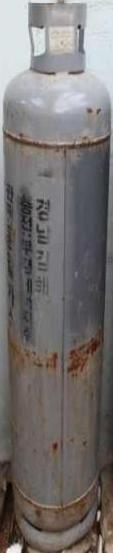cylinder: (0, 1, 113, 553)
